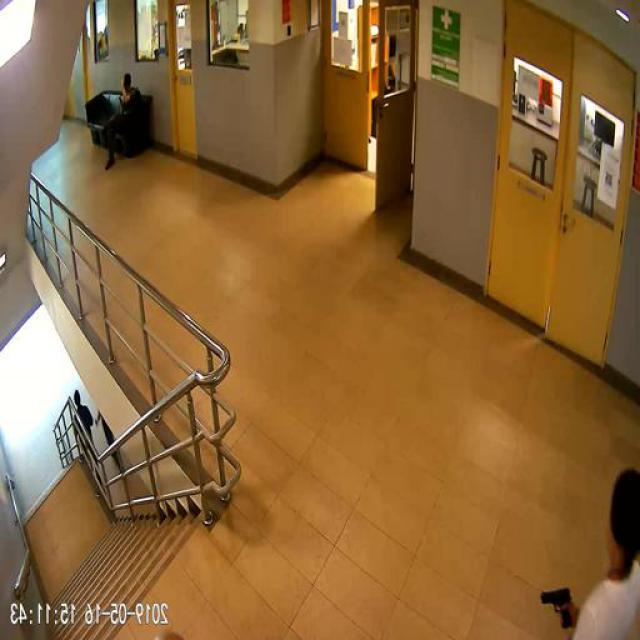Gun: (542, 584, 574, 628)
